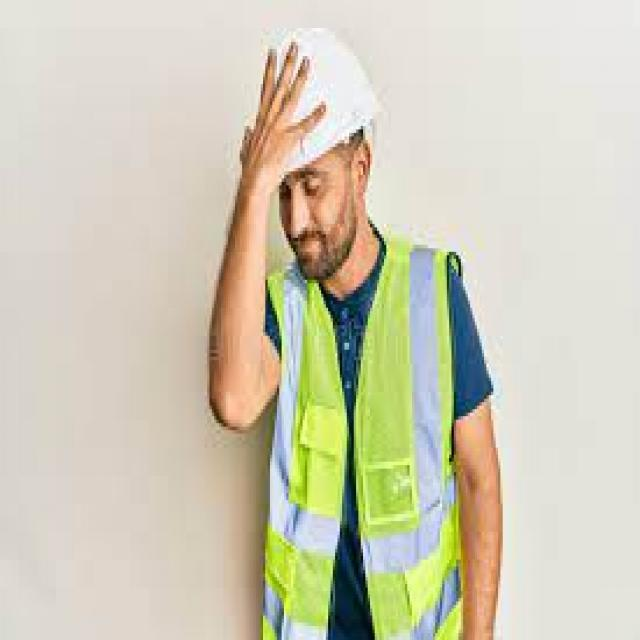Reflective-Jacket: (252, 242, 472, 630)
Safety-Helmet: (258, 14, 384, 189)
